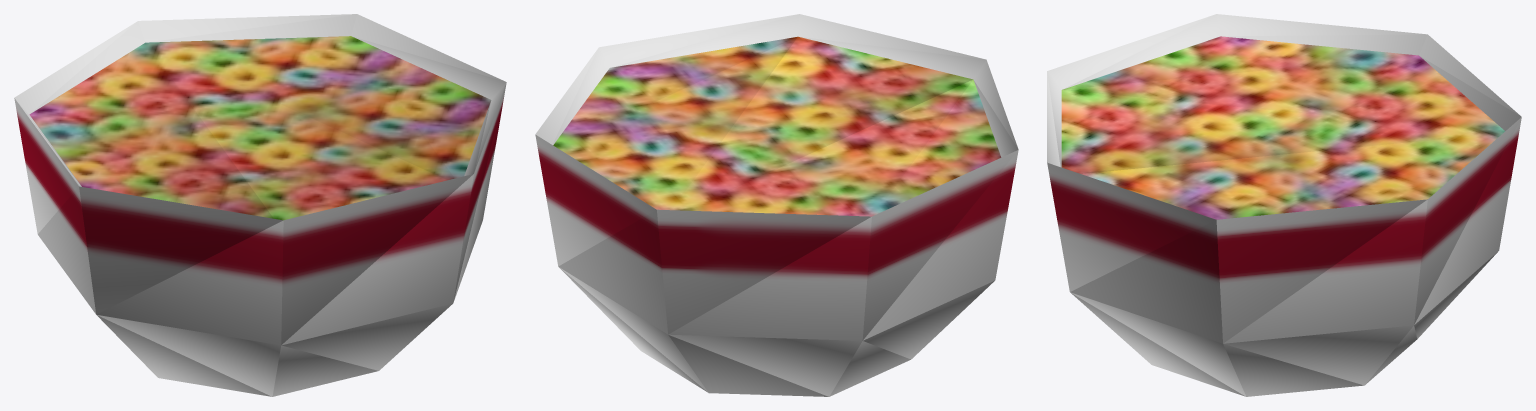
File: tigela.glb
The picture shows the model from 3 angles, left to right: view 1: azimuth 30°, elevation 25°; view 2: azimuth 150°, elevation 25°; view 3: azimuth 270°, elevation 25°; orthographic projection.
Visible parts, largest first — view 1: tigela; view 2: tigela; view 3: tigela.
Boxes of the visible parts, <box> form: tigela: <box>14,14,506,396</box>; tigela: <box>535,14,1018,396</box>; tigela: <box>1047,14,1521,396</box>.
Bounding box in the file's own units: 0.1388 × 0.07 × 0.1353.
Materials: 1 (1 with a texture image).
